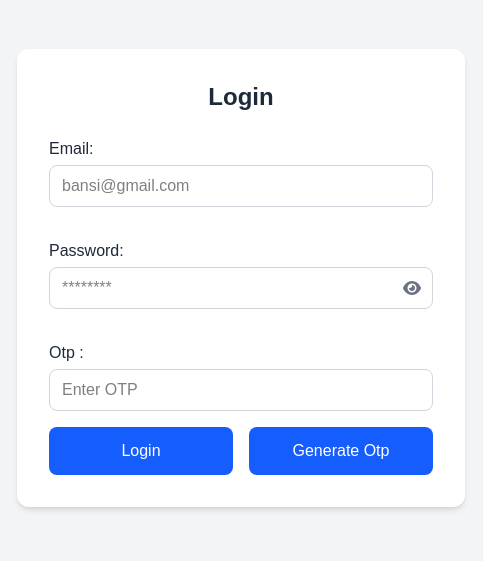
it: Login Page TestIng › Invalide Email Feild
In the field with placeholder "bansi@gmail.com": (241, 186) 49,165 -> 433,207, type "test"
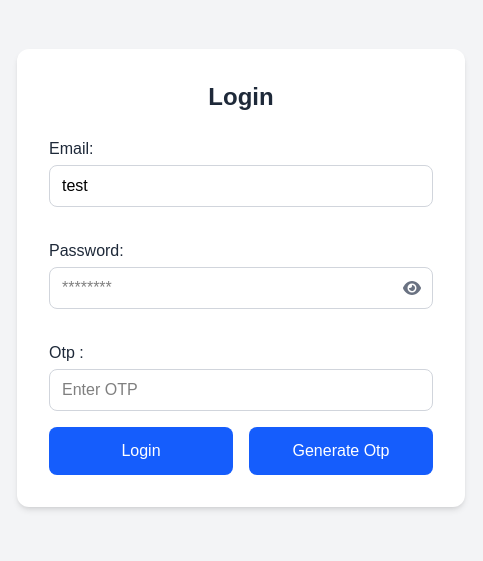
Click the button "Login": (141, 451) 49,427 -> 233,475
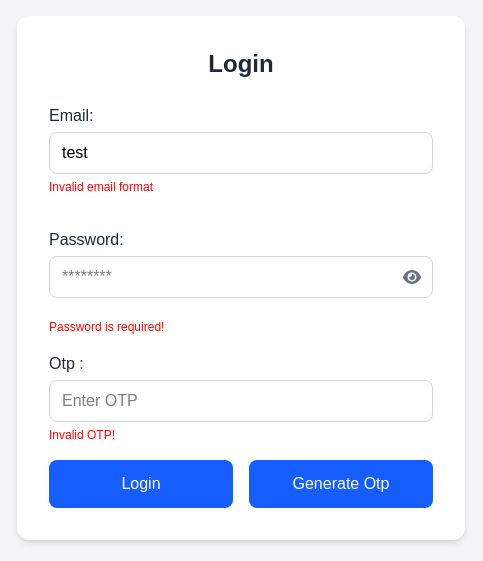
Check: the text "Invalid email format" is shown, box 49,180 -> 153,194
